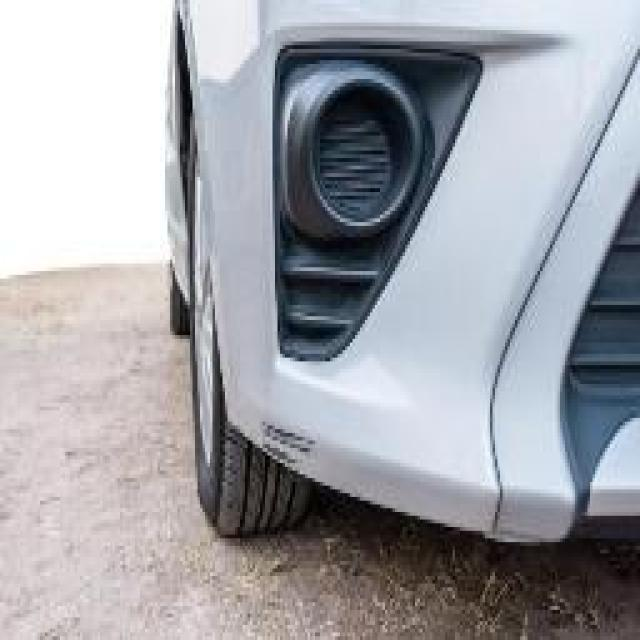Bumper: (255, 403, 348, 501)
